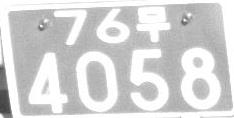0: (75, 51, 118, 112)
4: (27, 51, 68, 114)
5: (130, 48, 170, 112)
6: (95, 8, 131, 44)
7: (52, 9, 88, 47)
8: (179, 47, 221, 110)
무: (136, 6, 170, 43)
